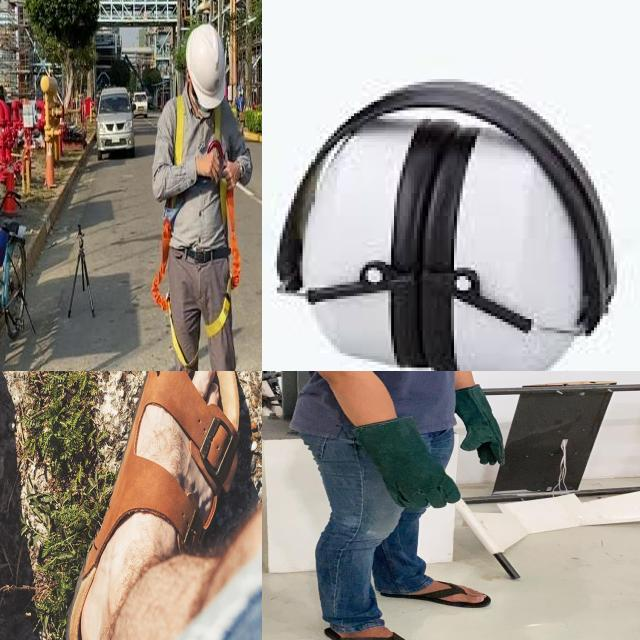Ear-protection: (417, 110, 577, 371), (308, 104, 419, 371)
Harness: (152, 218, 197, 368), (206, 190, 241, 338)
Sandals: (71, 371, 240, 640)
hand_glove: (360, 413, 466, 514), (444, 380, 516, 467)
person: (262, 371, 525, 640)
